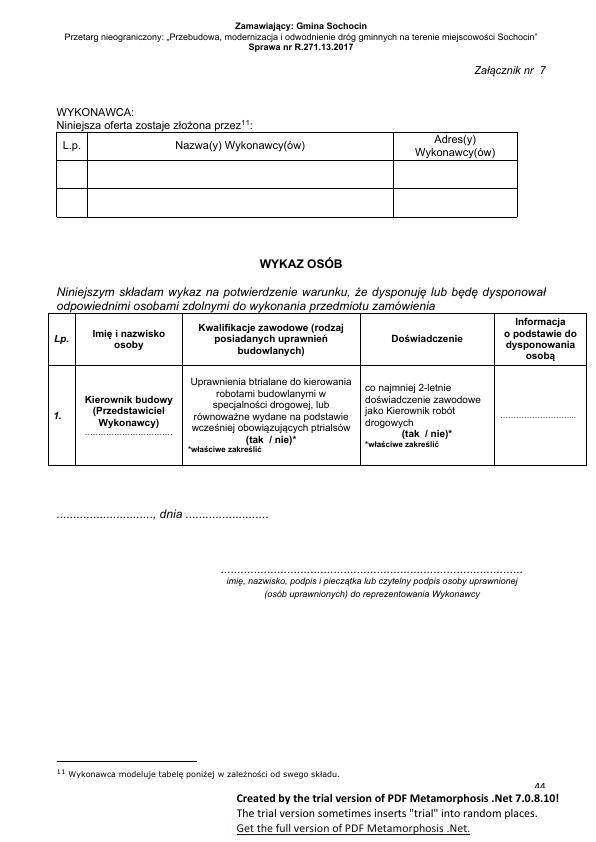input: (223, 560, 531, 602)
table: (44, 311, 593, 473), (54, 133, 524, 225)
text: (60, 16, 543, 57), (232, 788, 563, 838), (51, 282, 553, 312), (53, 101, 252, 132), (53, 763, 344, 782), (469, 60, 551, 82), (257, 255, 349, 273)
